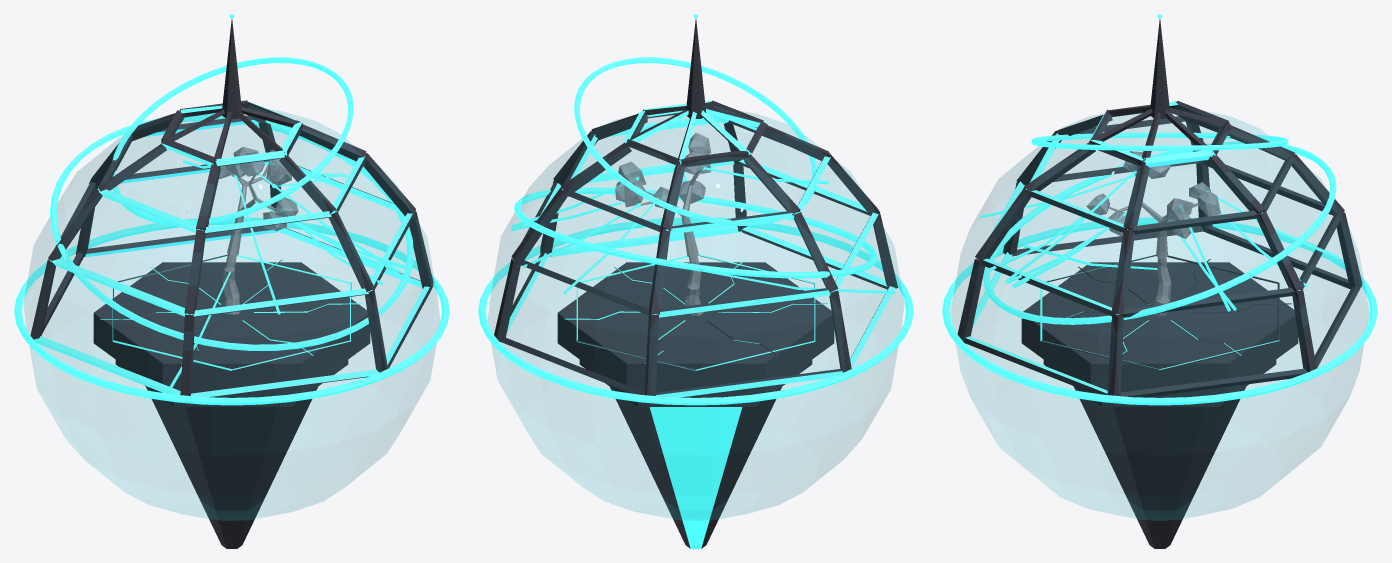
Rendered from axis.glb.
3 views of the same model, side by side, from view 1: azimuth 30°, elevation 25°; view 2: azimuth 150°, elevation 25°; view 3: azimuth 270°, elevation 25° (orthographic).
Parts seen in each view (by area): view 1: Dome_Glass, Dome_Base, Axis_Struts, Axis_Rings, Axis_Core, Axis_Cables, Tree_Foliage, Tree_Trunk; view 2: Dome_Glass, Dome_Base, Axis_Struts, Axis_Rings, Axis_Core, Tree_Foliage, Axis_Cables, Tree_Trunk; view 3: Dome_Glass, Dome_Base, Axis_Struts, Axis_Rings, Axis_Core, Axis_Cables, Tree_Foliage, Tree_Trunk.
Part boxes in pixels (x1,y1,x2,y2): Dome_Glass: (23, 109, 440, 520); Dome_Base: (93, 254, 370, 548); Axis_Struts: (30, 113, 433, 397); Axis_Rings: (14, 57, 449, 405); Axis_Core: (161, 19, 302, 166); Axis_Cables: (167, 160, 405, 392); Tree_Foliage: (176, 146, 298, 230); Tree_Trunk: (223, 165, 275, 314); Dome_Glass: (487, 110, 904, 520); Dome_Base: (557, 254, 834, 548); Axis_Struts: (494, 113, 897, 397); Axis_Rings: (478, 57, 913, 405); Axis_Core: (624, 19, 767, 167); Tree_Foliage: (615, 132, 743, 211); Axis_Cables: (511, 162, 895, 294); Tree_Trunk: (638, 170, 703, 315); Dome_Glass: (950, 111, 1369, 520); Dome_Base: (1021, 254, 1298, 548); Axis_Struts: (957, 114, 1362, 397); Axis_Rings: (942, 132, 1377, 405); Axis_Core: (1089, 19, 1231, 167); Axis_Cables: (980, 172, 1339, 311); Tree_Foliage: (1086, 145, 1220, 238); Tree_Trunk: (1103, 173, 1198, 316).
Bounding box in the file's own units: 7.65 × 10.3 × 7.65.
